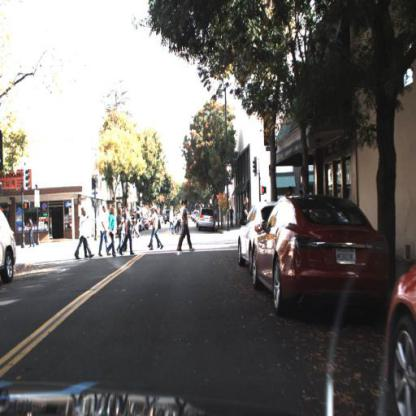car: (251, 196, 393, 314), (385, 265, 416, 416), (237, 202, 273, 269), (196, 206, 219, 232), (198, 208, 216, 231)
pedestrian: (179, 203, 196, 254), (99, 204, 109, 259), (99, 204, 108, 261), (80, 207, 89, 261), (108, 206, 117, 257), (125, 204, 134, 255), (151, 206, 160, 254), (118, 204, 125, 256), (26, 216, 36, 248), (177, 197, 185, 237), (179, 200, 185, 253), (118, 206, 123, 253), (154, 207, 158, 252), (230, 206, 235, 228)
trafficLight-Red: (225, 164, 233, 187), (91, 174, 99, 194)
